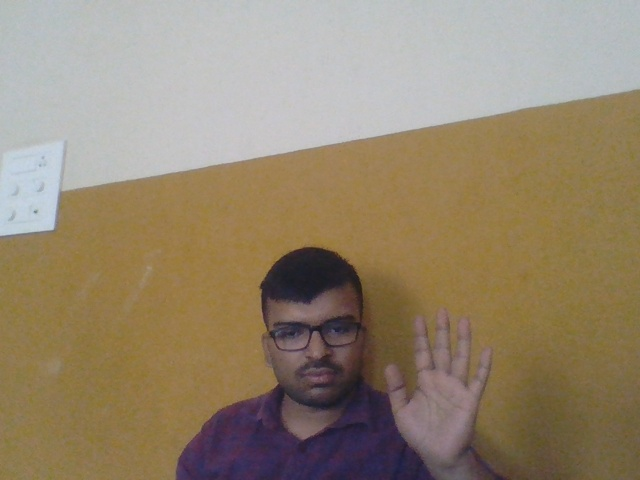Hello: (366, 311, 505, 463)
